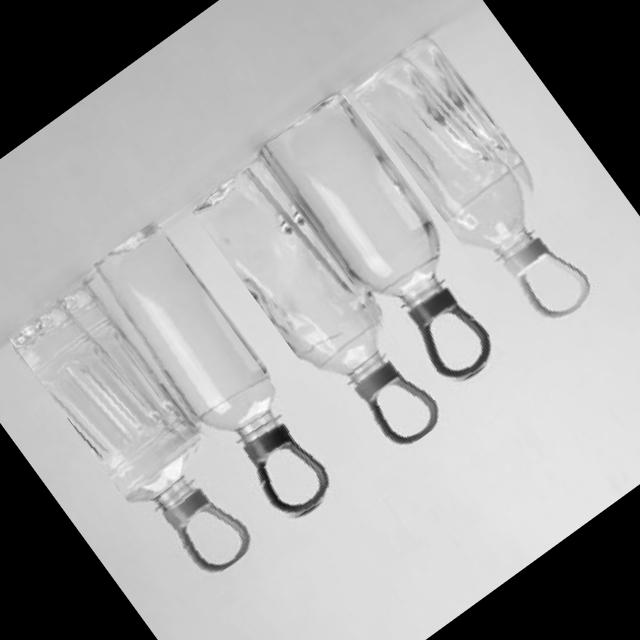plastic bottle: (76, 220, 345, 541), (253, 89, 522, 403), (346, 27, 613, 341), (4, 278, 270, 592), (188, 154, 452, 468)
